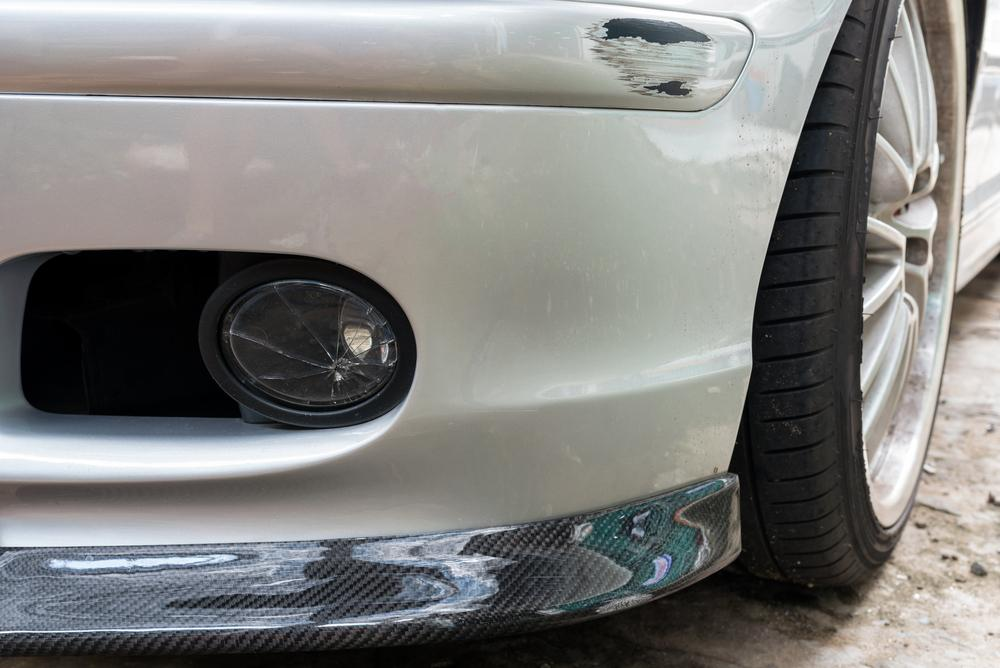lamp broken: (224, 281, 397, 409)
scratch: (578, 10, 715, 102)
